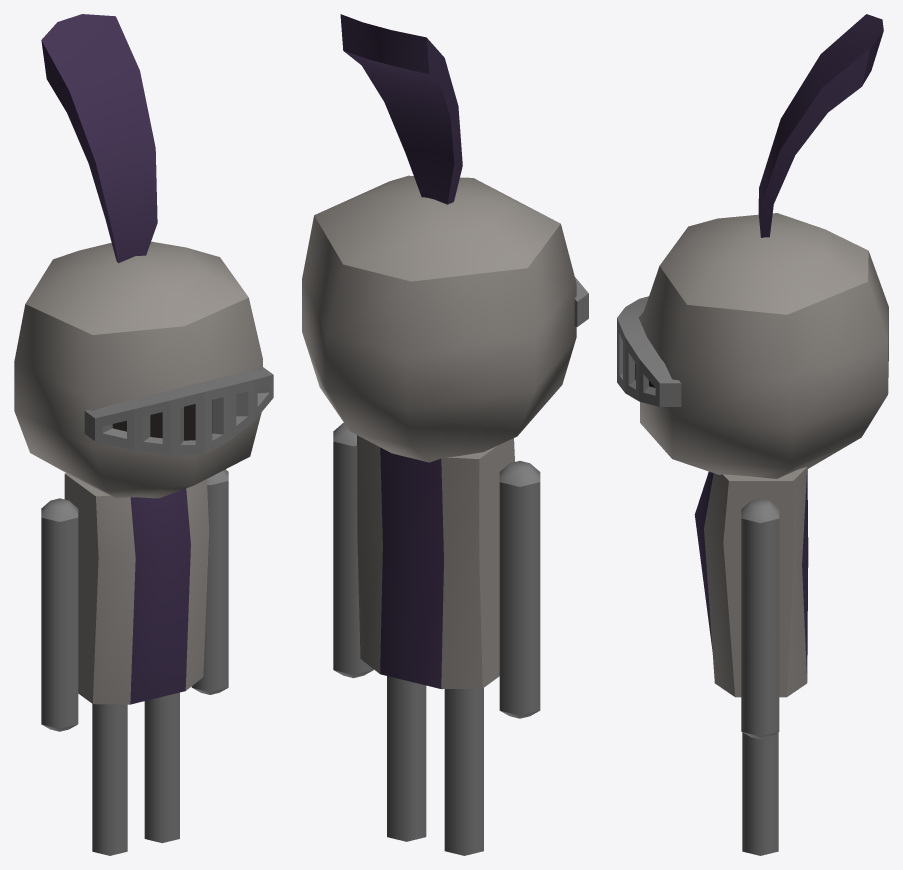
Rendered from Knight.FBX.
3 views of the same model, side by side, from view 1: azimuth 30°, elevation 25°; view 2: azimuth 150°, elevation 25°; view 3: azimuth 270°, elevation 25° (orthographic). The views are drawn at different scales.
Parts seen in each view (by area): view 1: Box027; view 2: Box027; view 3: Box027.
Boxes of the visible parts, x1,y1,x2,y2 form: Box027: (14, 14, 273, 855); Box027: (302, 14, 588, 855); Box027: (617, 14, 888, 855).
Bounding box in the file's own units: 29.84 × 105 × 32.22.
